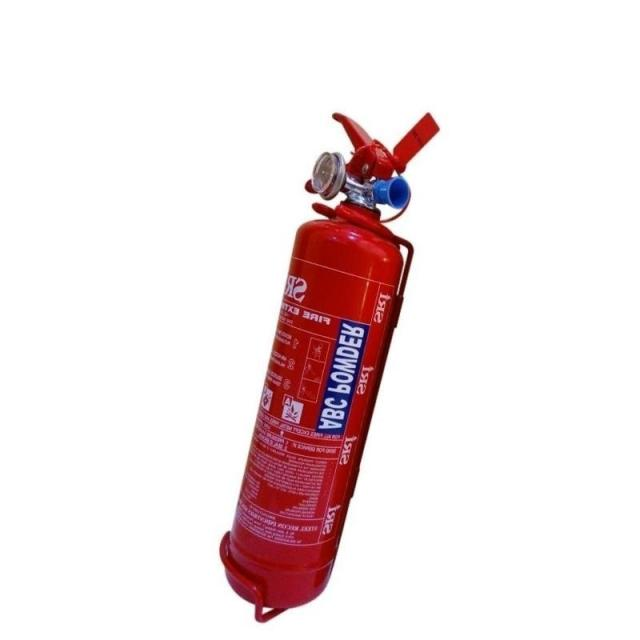fire_extinguisher: (215, 106, 442, 612)
